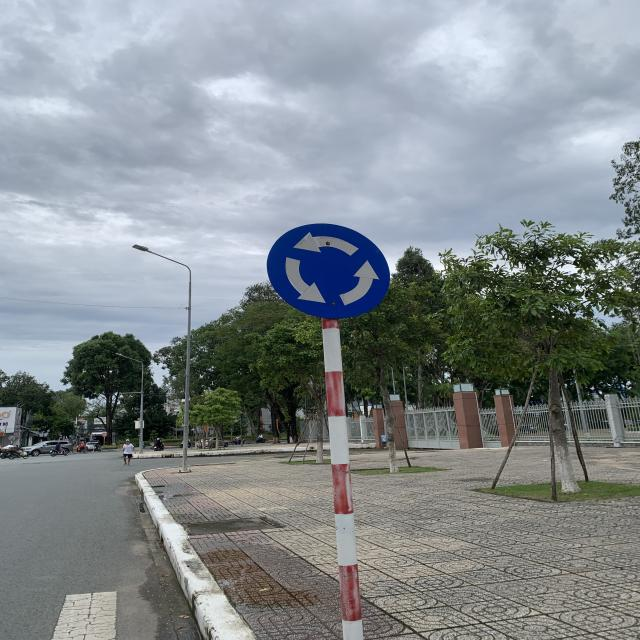Xe_Bus: (266, 220, 389, 318)
